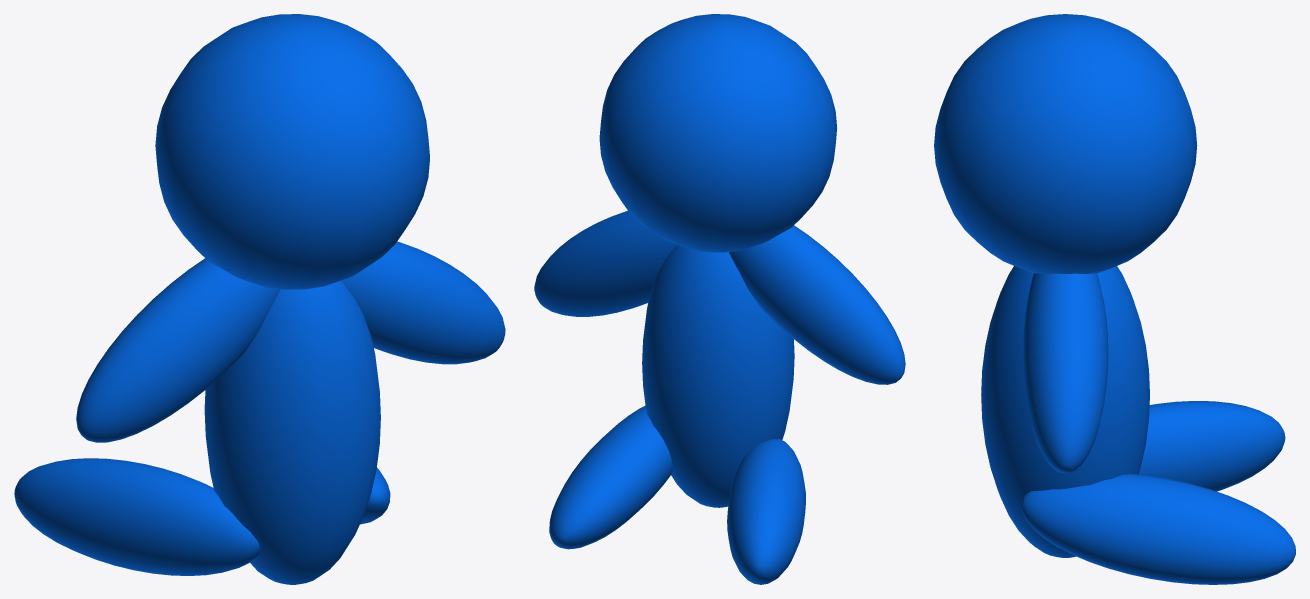
The model's file is lvl2_teddyMonster.fbx.
3 views of the same model, side by side, from view 1: azimuth 30°, elevation 25°; view 2: azimuth 150°, elevation 25°; view 3: azimuth 270°, elevation 25° (orthographic). The views are drawn at different scales.
Visible parts, largest first — view 1: pSphere10; view 2: pSphere10; view 3: pSphere10.
Boxes of the visible parts, <box> form: pSphere10: <box>14,14,505,584</box>; pSphere10: <box>534,14,905,584</box>; pSphere10: <box>934,14,1295,584</box>.
Bounding box in the file's own units: 25.44 × 31.77 × 19.73.
